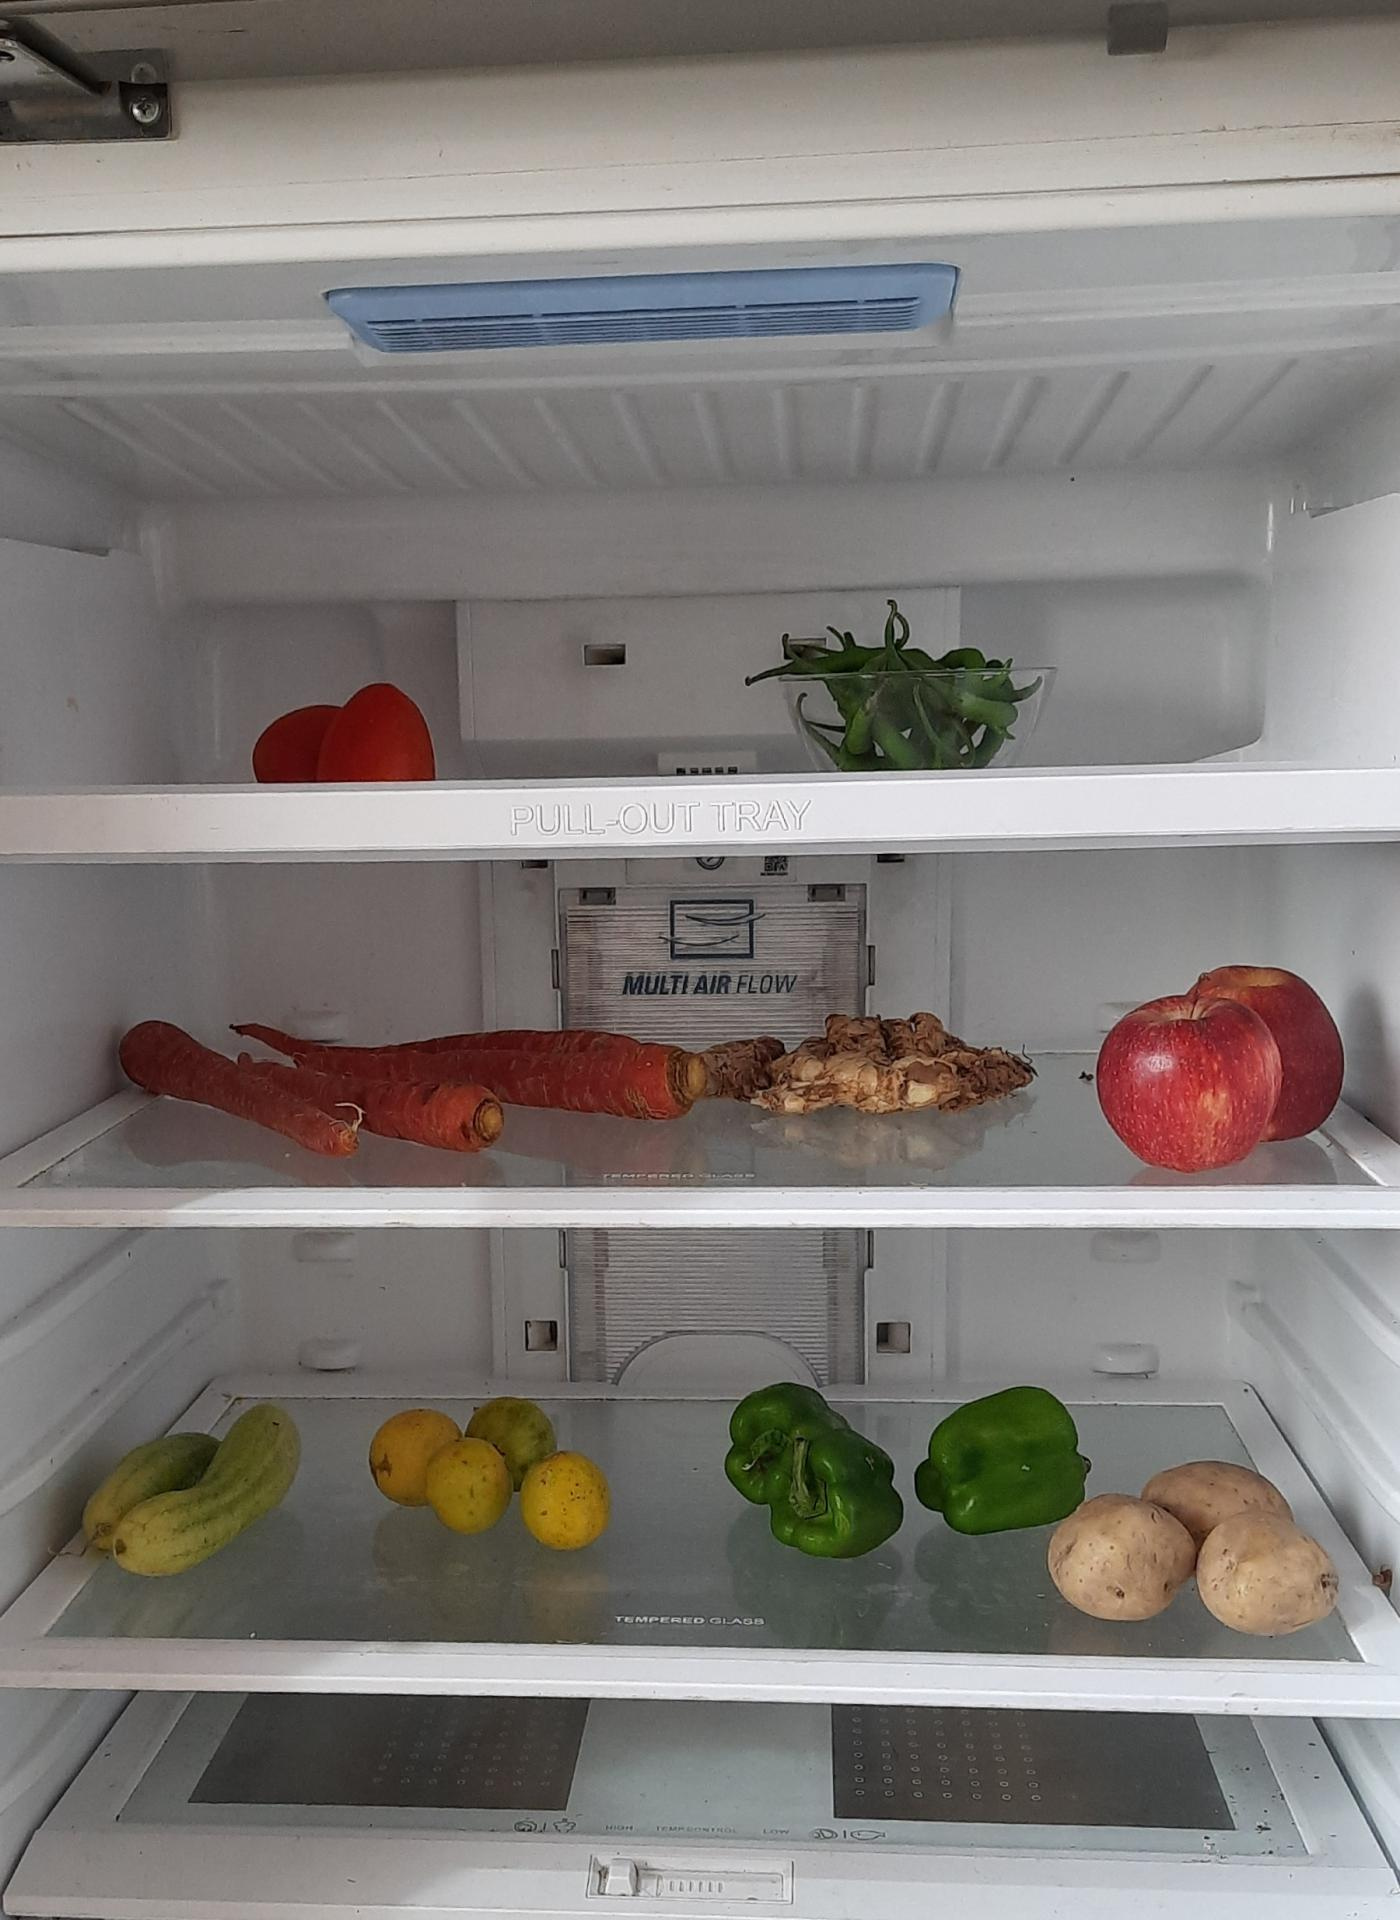apple: (1100, 970, 1345, 1163)
capsicum: (729, 1361, 1084, 1556)
carrots: (101, 1002, 705, 1152)
chillies: (768, 599, 1039, 772)
cucumber: (63, 1404, 303, 1573)
ginger: (646, 1012, 1020, 1120)
lemon: (359, 1394, 632, 1540)
potato: (1048, 1459, 1325, 1631)
tomato: (252, 684, 435, 780)
